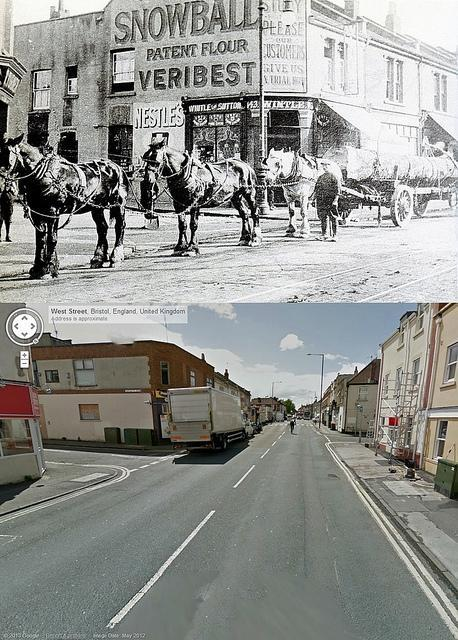truck: (168, 386, 248, 454)
